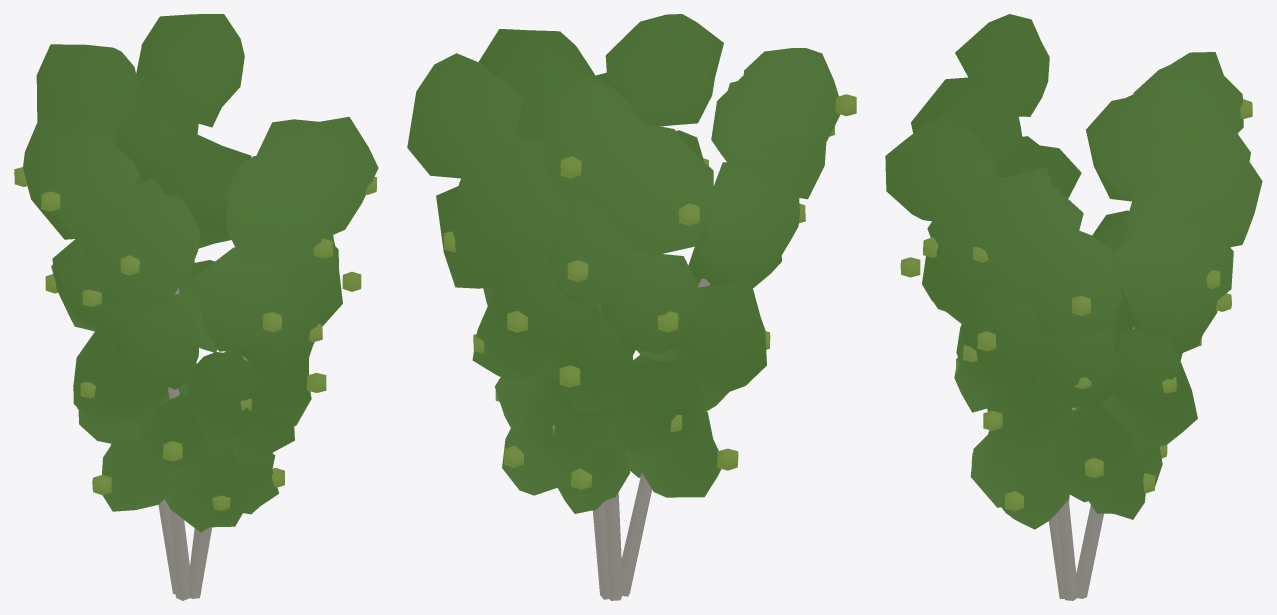
File: Blender_Yaupon_1.glb
3 views of the same model, side by side, from view 1: azimuth 30°, elevation 25°; view 2: azimuth 150°, elevation 25°; view 3: azimuth 270°, elevation 25° (orthographic). The views are drawn at different scales.
Visible parts, largest first — view 1: Blender_Yaupon_1; view 2: Blender_Yaupon_1; view 3: Blender_Yaupon_1.
Part boxes in pixels (x1=…): Blender_Yaupon_1: x1=14, y1=14, x2=378, y2=600; Blender_Yaupon_1: x1=407, y1=14, x2=856, y2=600; Blender_Yaupon_1: x1=885, y1=14, x2=1262, y2=600.
Size of the model in its own units: 3.14 by 4.57 by 3.02.
